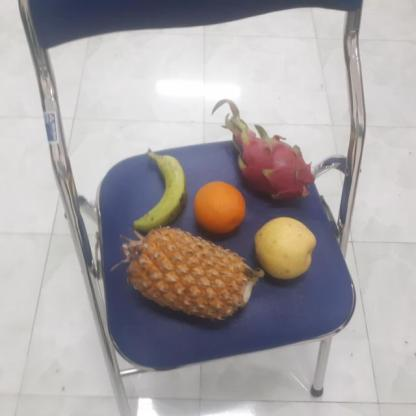orange: (190, 180, 248, 236)
pear: (252, 217, 318, 280)
pineapple: (120, 230, 255, 324)
pitaya: (227, 130, 312, 206)
